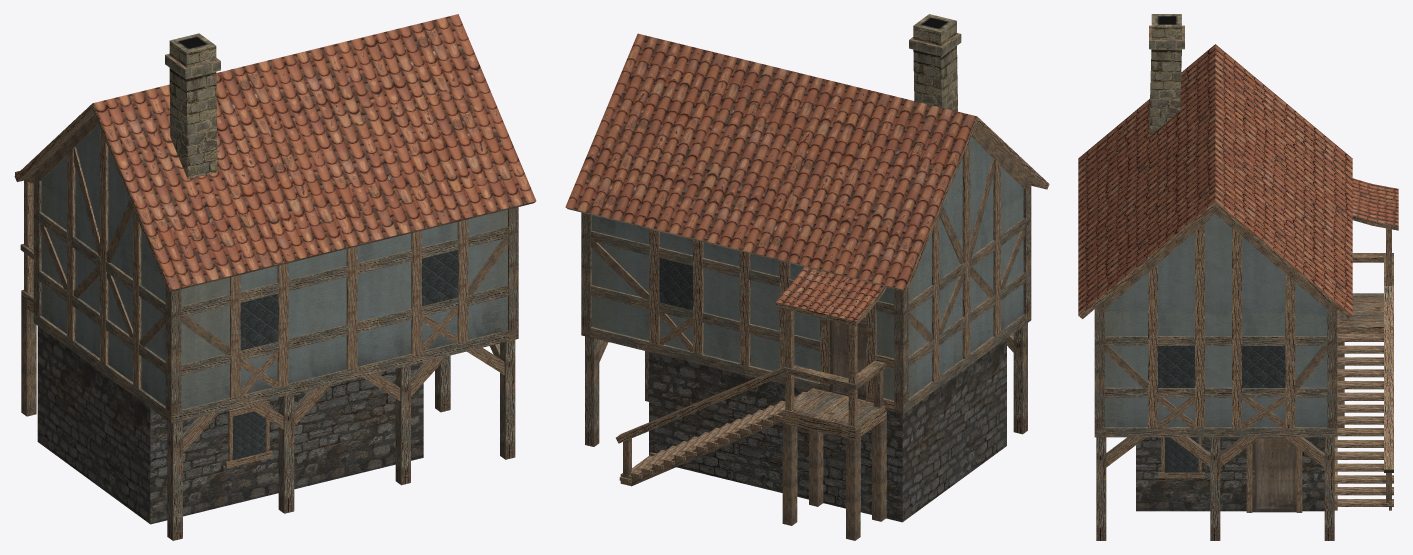
Rendered from medieval_house.glb.
3 views of the same model, side by side, from view 1: azimuth 30°, elevation 25°; view 2: azimuth 150°, elevation 25°; view 3: azimuth 270°, elevation 25° (orthographic). The views are drawn at different scales.
Parts seen in each view (by area): view 1: Object_2; view 2: Object_2; view 3: Object_2.
Boxes of the visible parts, <box> form: Object_2: <box>14,14,536,540</box>; Object_2: <box>565,14,1049,540</box>; Object_2: <box>1078,14,1398,540</box>.
Bounding box in the file's own units: 9.37 × 11.12 × 8.08.
Materials: 1 (1 with a texture image).
